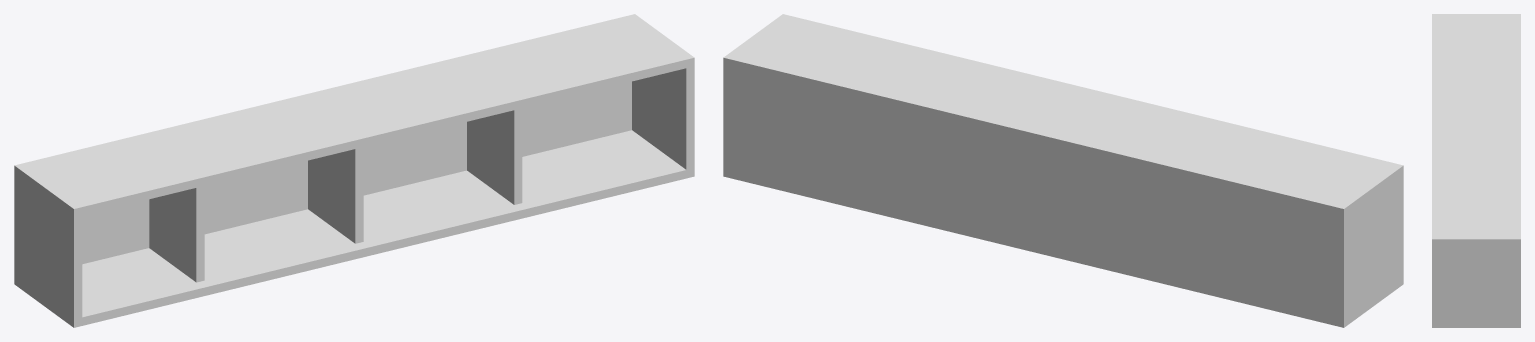
The model's file is shelf_063.glb.
3 renders of one model, left to right at view 1: azimuth 30°, elevation 25°; view 2: azimuth 150°, elevation 25°; view 3: azimuth 270°, elevation 25°, orthographic. The views are drawn at different scales.
Parts seen in each view (by area): view 1: shelf_063; view 2: shelf_063; view 3: shelf_063.
Part boxes in pixels (bbox=[...]): shelf_063: bbox=[14, 14, 694, 327]; shelf_063: bbox=[723, 14, 1403, 327]; shelf_063: bbox=[1432, 14, 1520, 327].
Bounding box in the file's own units: 2.21 × 0.4049 × 0.3683.
1 material, 1 textured.
